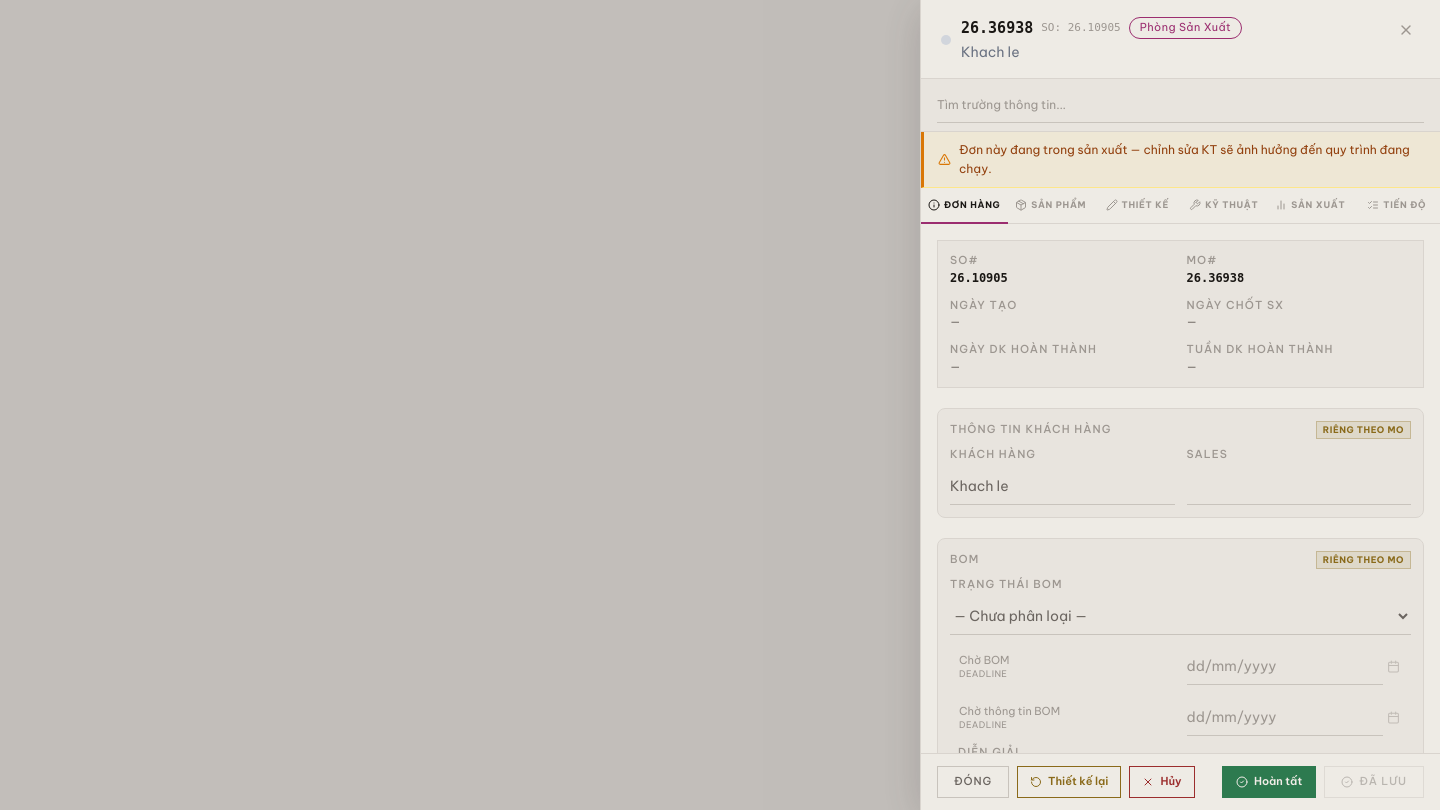
Scenario: Thiet ke lai (rollback) › bat buoc nhap ly do — de trong thi nut xac nhan bi khoa
Click the button "Thiết kế lại" at (1069, 782), box [1017,766,1121,798]
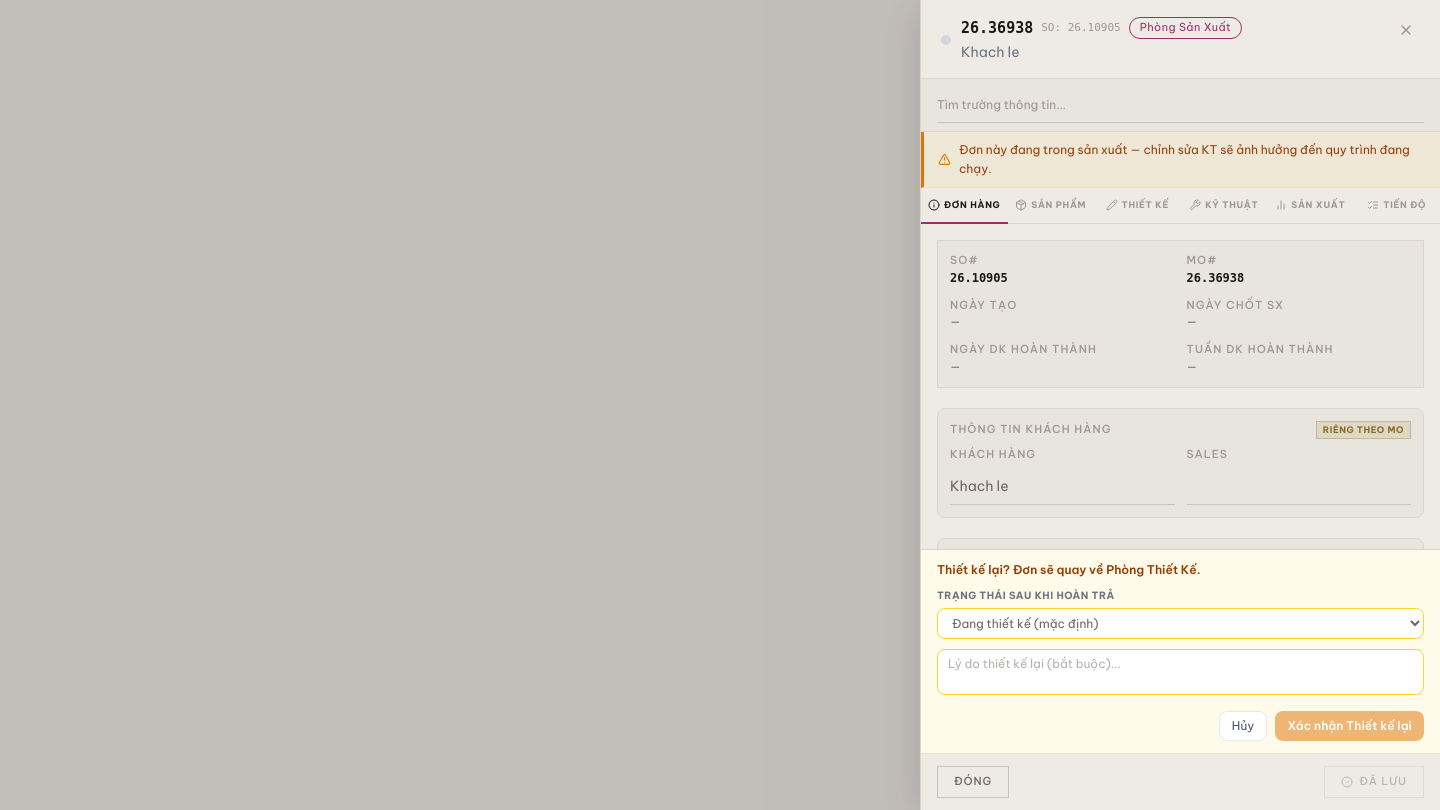
Expected: the button "Xác nhận Thiết kế lại" is disabled, [1275,711,1424,741]
